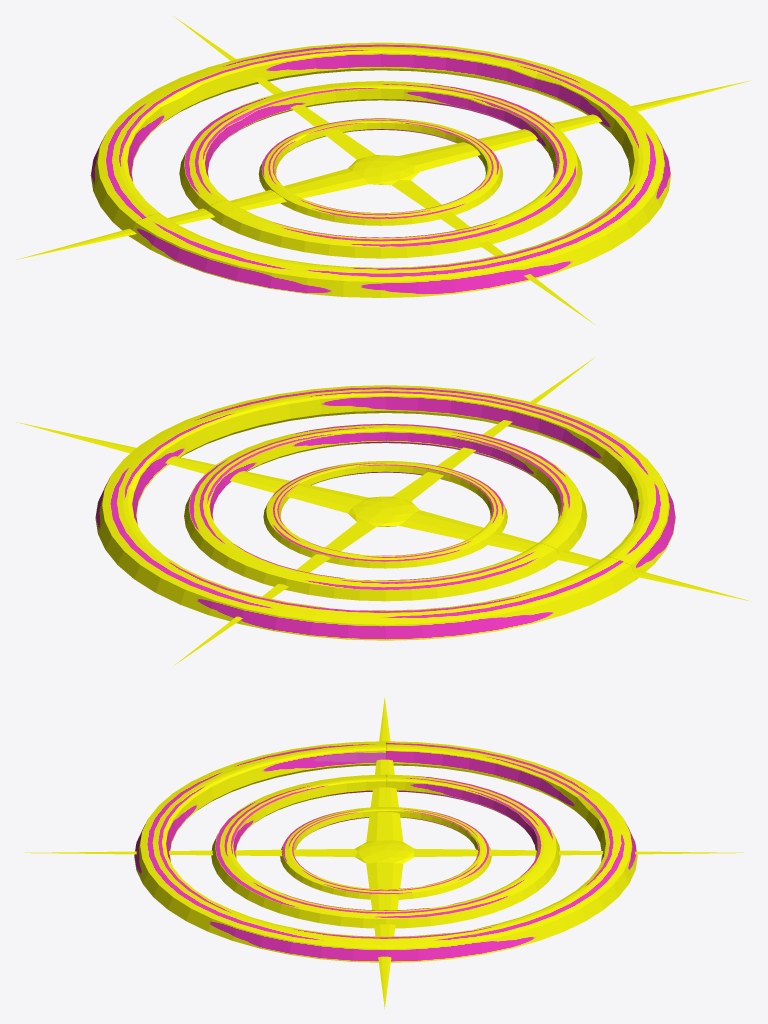
The model's file is reticle.obj.
The picture shows the model from 3 angles, top to bottom: view 1: azimuth 30°, elevation 25°; view 2: azimuth 150°, elevation 25°; view 3: azimuth 270°, elevation 25°; orthographic projection. The views are drawn at different scales.
Visible parts, largest first — view 1: reticle; view 2: reticle; view 3: reticle.
Boxes of the visible parts, x1,y1,x2,y2 form: reticle: (16, 16, 751, 324); reticle: (16, 357, 750, 665); reticle: (24, 697, 743, 1009).
Size of the model in its own units: 8.43 by 0.2144 by 8.42.
